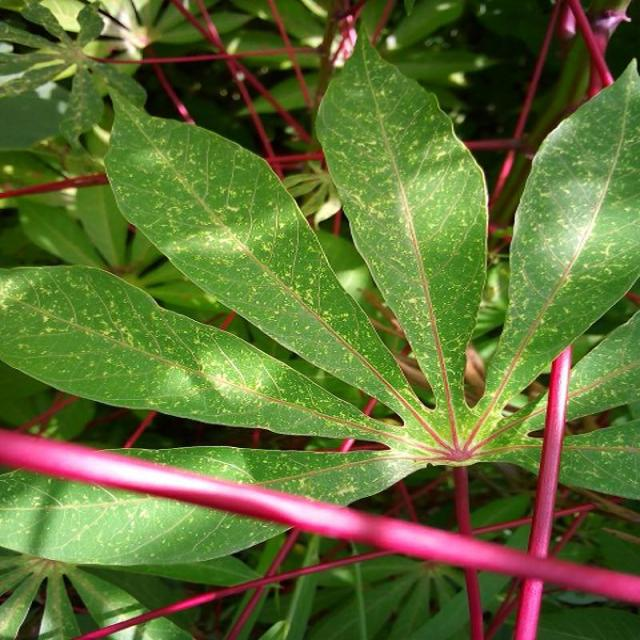cassava leaf: (103, 83, 432, 427), (2, 261, 407, 444), (314, 20, 491, 425), (474, 54, 640, 438), (1, 440, 427, 568)
